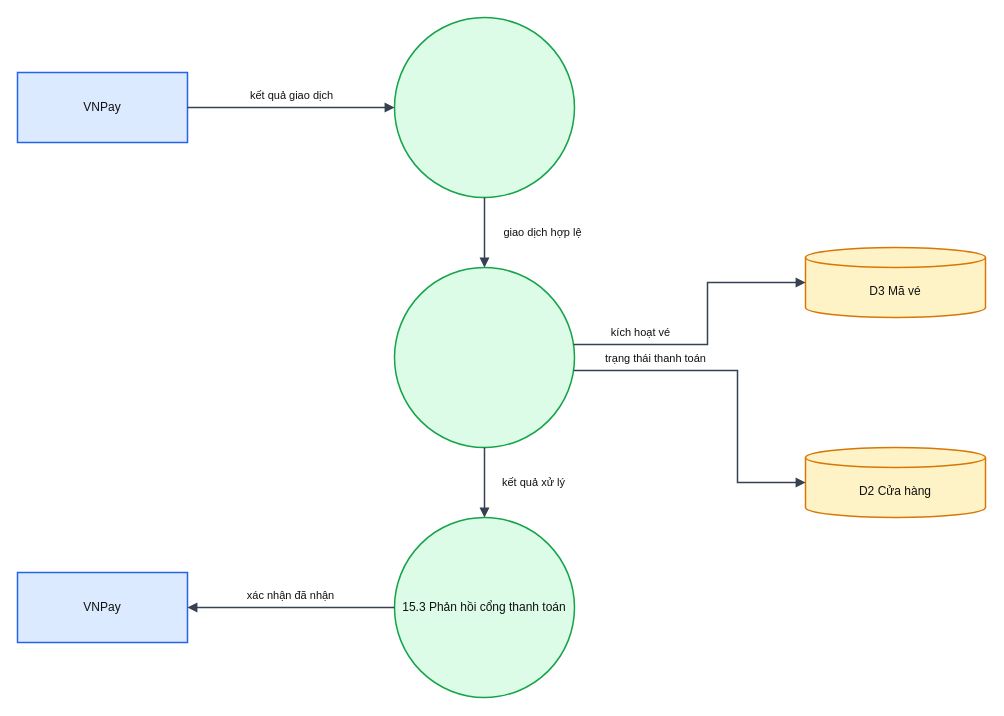
Image size: 1004x716. Some labels were removed from this diagram. Each missing label, with the centre of its shape:
"15.1 Kiểm tra tín hiệu thanh toán" goes at point 484,107.
"15.2 Xử lý giao dịch" goes at point 484,357.
